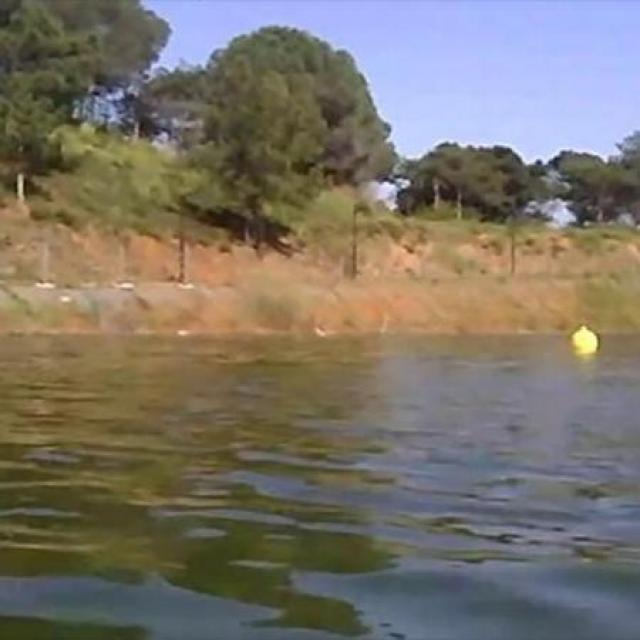buoy: (571, 324, 597, 356)
